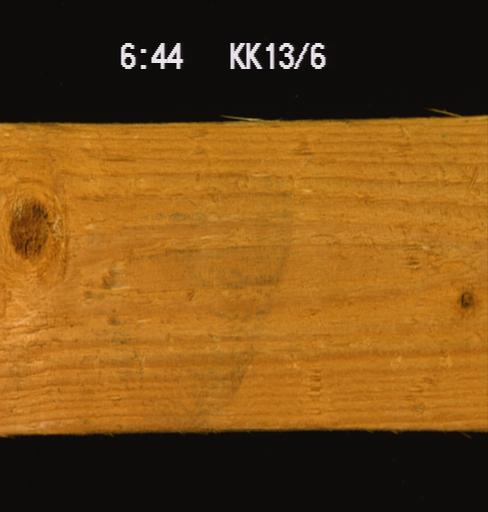dry_knot: (454, 285, 478, 312)
sound_knot: (6, 198, 51, 259)
